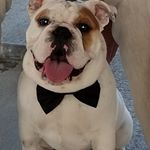puppy: (23, 1, 120, 145)
